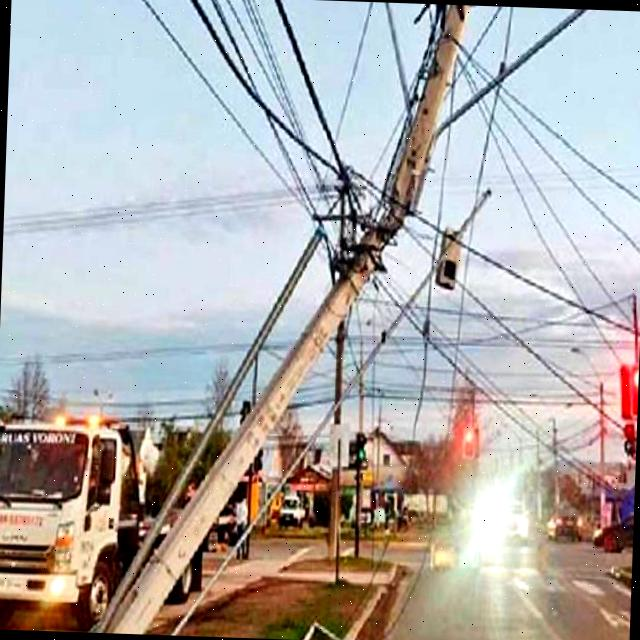Broken Pole: (91, 7, 471, 630), (171, 187, 493, 633)
